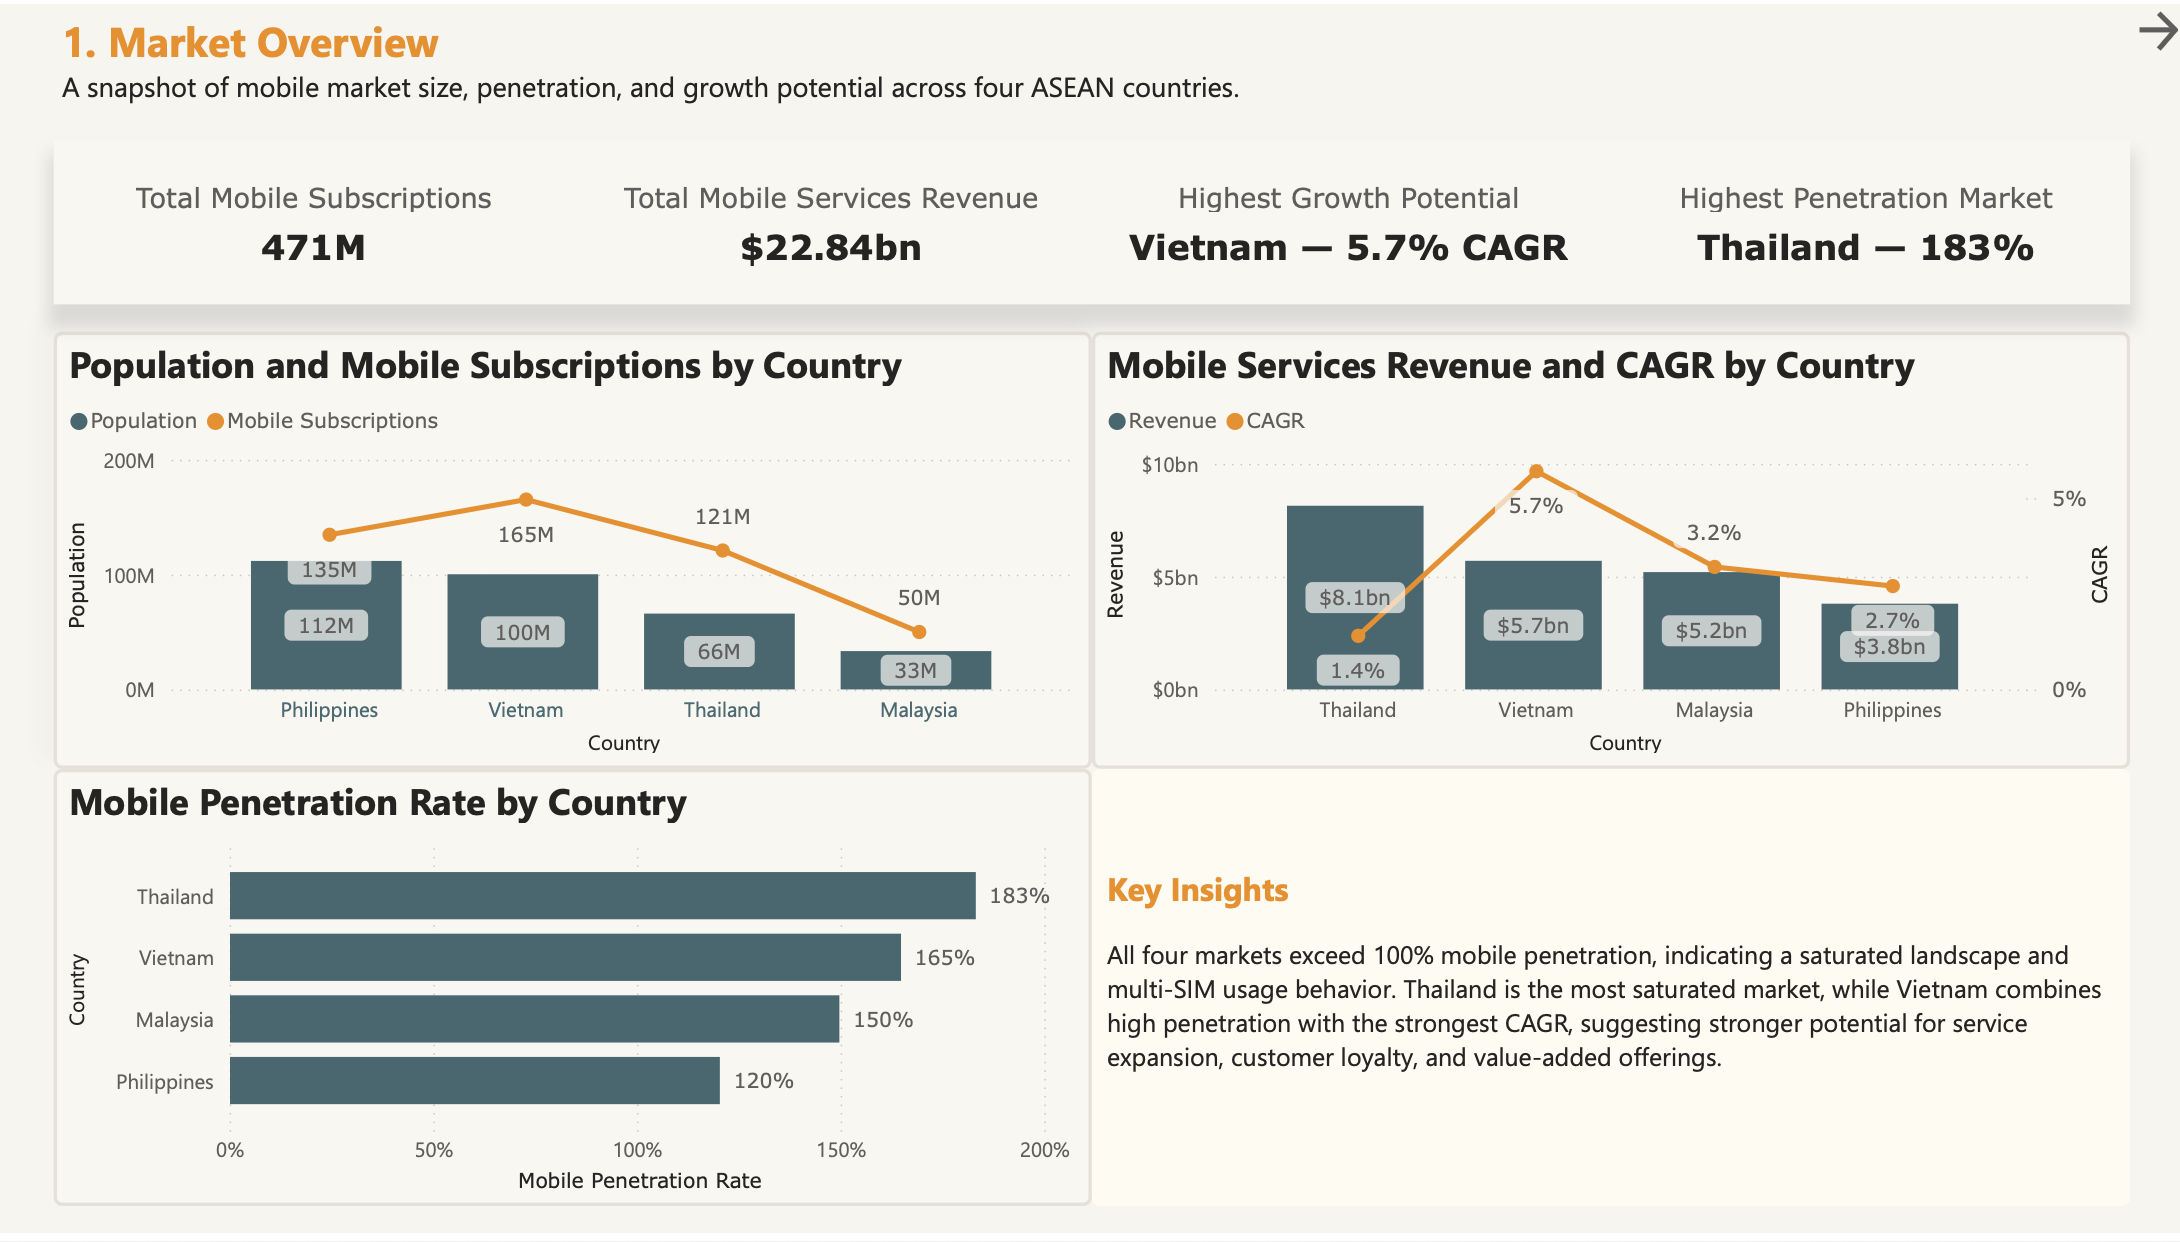

The page's visual inventory and layout, read from the dashboard file:
{"tool":"powerbi","page":{"name":"1. Market Overview","canvas":[1280,720],"ordinal":0},"visuals":[{"type":"lineClusteredColumnComboChart","title":"Population and Mobile Subscriptions by Country","fields":{"Category":["Market Overview.Country"],"Y":["Sum(Market Overview.Population)"],"Y2":["Sum(Market Overview.Mobile Subscriptions)"]},"box":[32,192,608,256],"z":0},{"type":"lineClusteredColumnComboChart","title":"Mobile Services Revenue and CAGR  by Country ","fields":{"Category":["Market Overview.Country"],"Y":["Sum(Market Overview.Mobile Services Revenue (USD))"],"Y2":["Sum(Market Overview.CAGR (compound annual growth rate))"]},"box":[640,192,608,256],"z":1000},{"type":"cardVisual","fields":{"Data":["Sum(Market Overview.Mobile Subscriptions)","Market Overview.Total Mobile Services Revenue","Market Overview.Highest CAGR Market","Market Overview.Highest Penetration Market"]},"box":[32,80,1216,96],"z":2000},{"type":"textbox","box":[32,0,848,64],"z":3000},{"type":"barChart","title":"Mobile Penetration Rate by Country","fields":{"Category":["Market Overview.Country"],"Y":["Market Overview.Mobile Penetration Rate"]},"box":[32,448,608,256],"z":4000},{"type":"textbox","box":[640,448,608,256],"z":5000},{"type":"actionButton","box":[1248,0,32,32],"z":6000}]}

Visuals, with their boxes in screenshot pixels (x1, y1, x2, y2), scaled from the page's 1280x720 canvas onto the 2180x1242 screenshot:
"Population and Mobile Subscriptions by Country" lineClusteredColumnComboChart: left=54, top=331, right=1090, bottom=773
"Mobile Services Revenue and CAGR  by Country " lineClusteredColumnComboChart: left=1090, top=331, right=2126, bottom=773
cardVisual - Sum(Market Overview.Mobile Subscriptions) x Market Overview.Total Mobile Services Revenue: left=54, top=138, right=2126, bottom=304
textbox: left=54, top=0, right=1499, bottom=110
"Mobile Penetration Rate by Country" barChart: left=54, top=773, right=1090, bottom=1214
textbox: left=1090, top=773, right=2126, bottom=1214
actionButton: left=2126, top=0, right=2179, bottom=55
